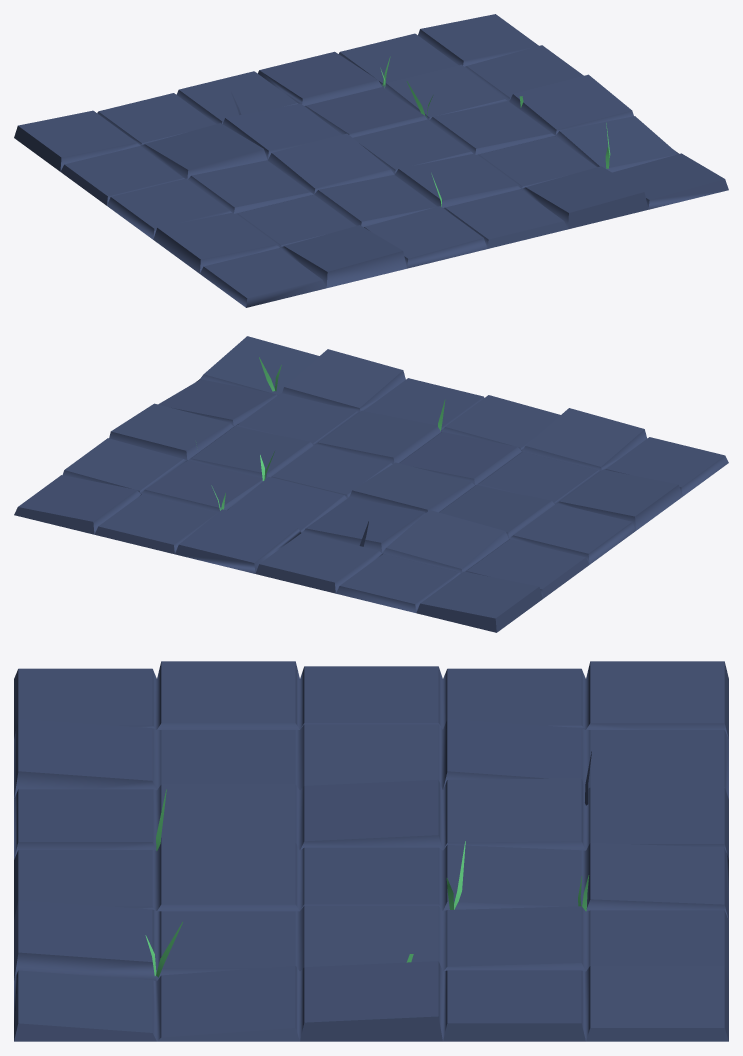
The model's file is floor_tiles_01 1.fbx.
3 views of the same model, one above another, from view 1: azimuth 30°, elevation 25°; view 2: azimuth 150°, elevation 25°; view 3: azimuth 270°, elevation 25° (orthographic). The views are drawn at different scales.
Visible parts, largest first — view 1: Floor tiles; view 2: Floor tiles; view 3: Floor tiles.
Part boxes in pixels (left/top/right/bottom): Floor tiles: left=14, top=14, right=728, bottom=307; Floor tiles: left=14, top=336, right=728, bottom=632; Floor tiles: left=14, top=661, right=728, bottom=1041.
Bounding box in the file's own units: 495 × 43.94 × 412.
